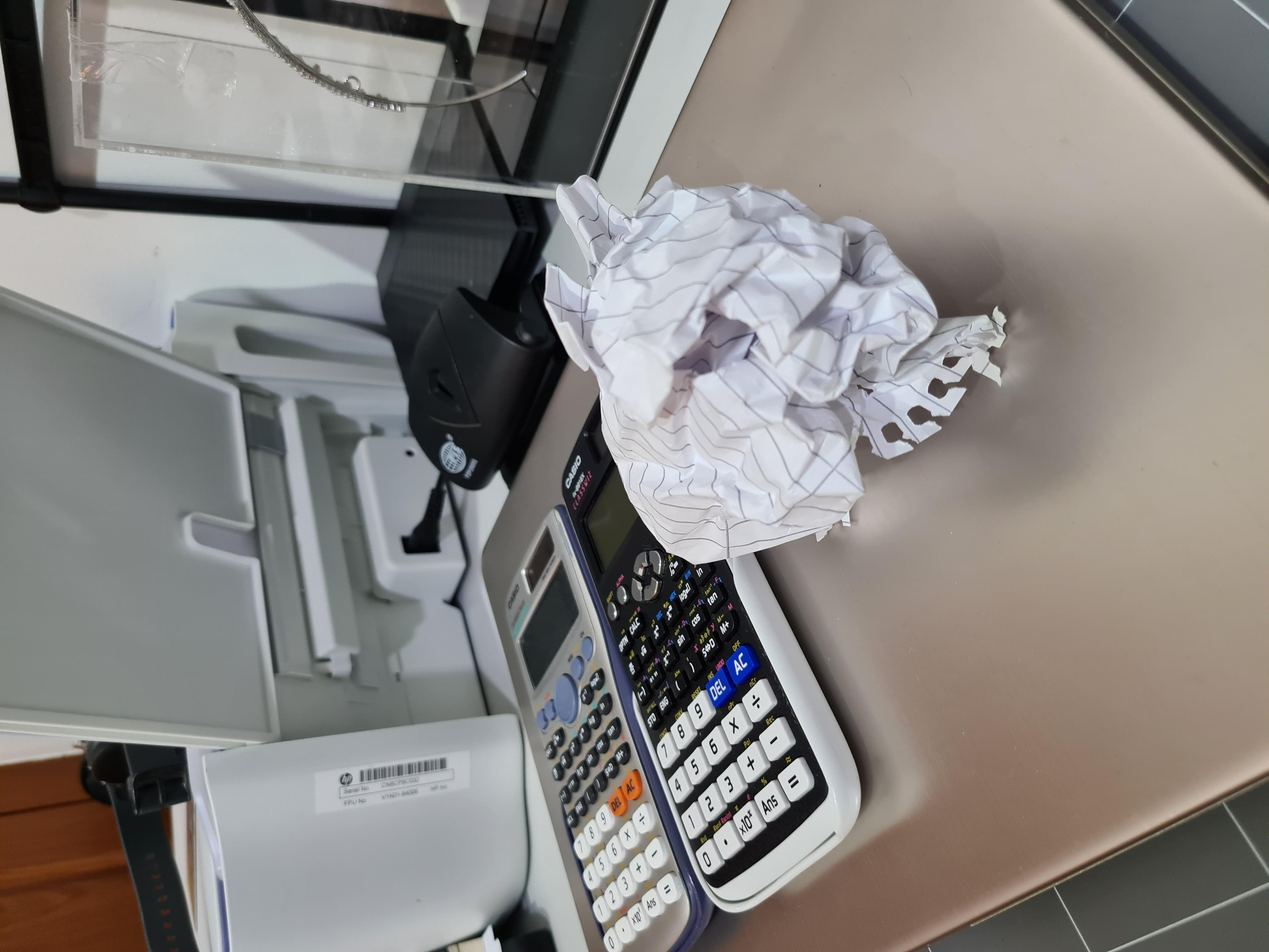paper: (517, 397, 1047, 756)
